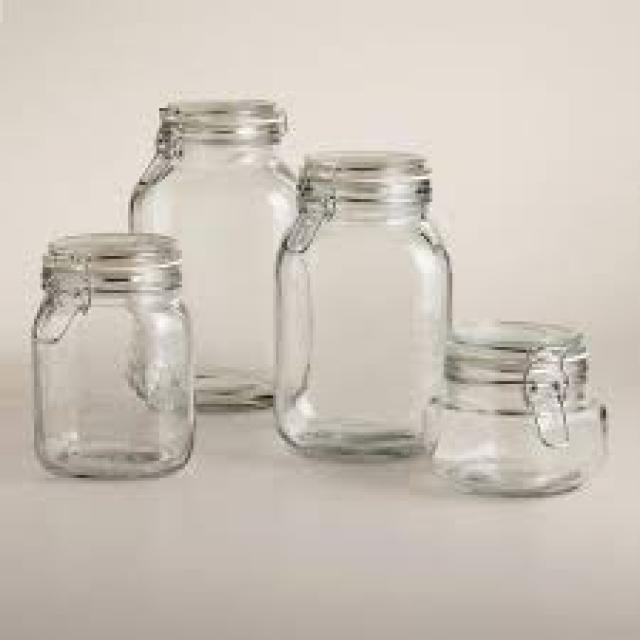glass: (268, 151, 453, 452), (128, 97, 299, 410), (32, 233, 194, 475), (418, 319, 606, 492)
